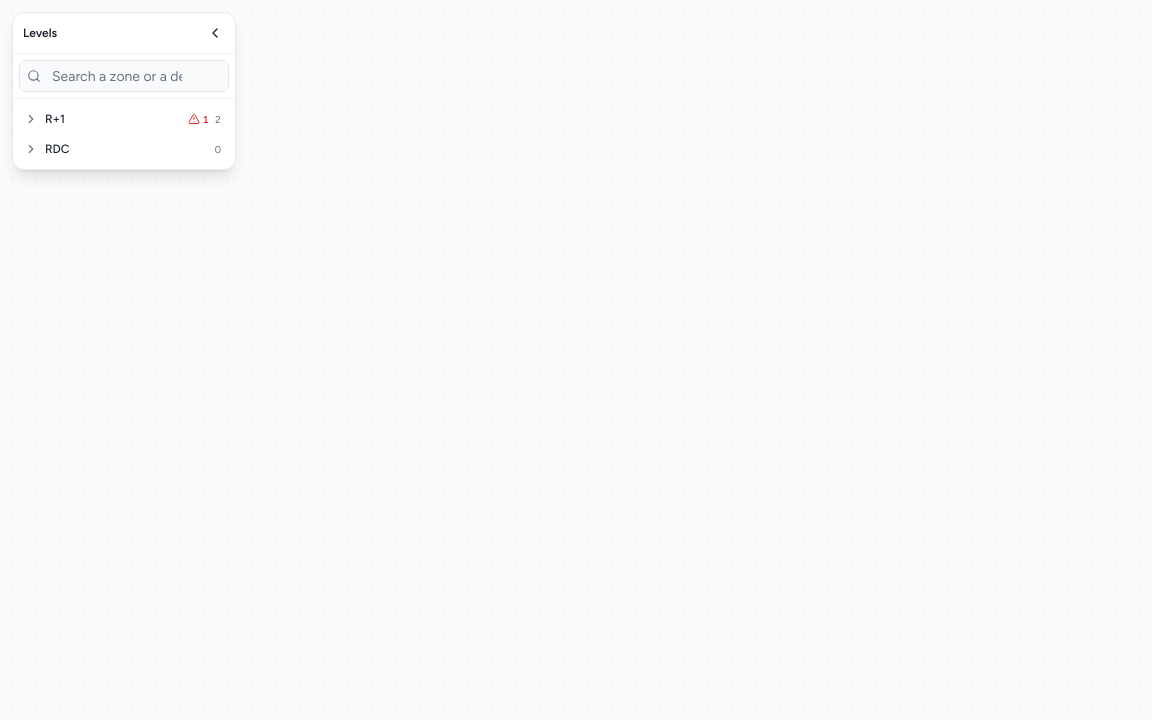
LevelPanel › links out for a device the model cannot place
In the search field labelled "Search a zone or a device…": (124,76) [19, 60, 229, 92], type "compteur"
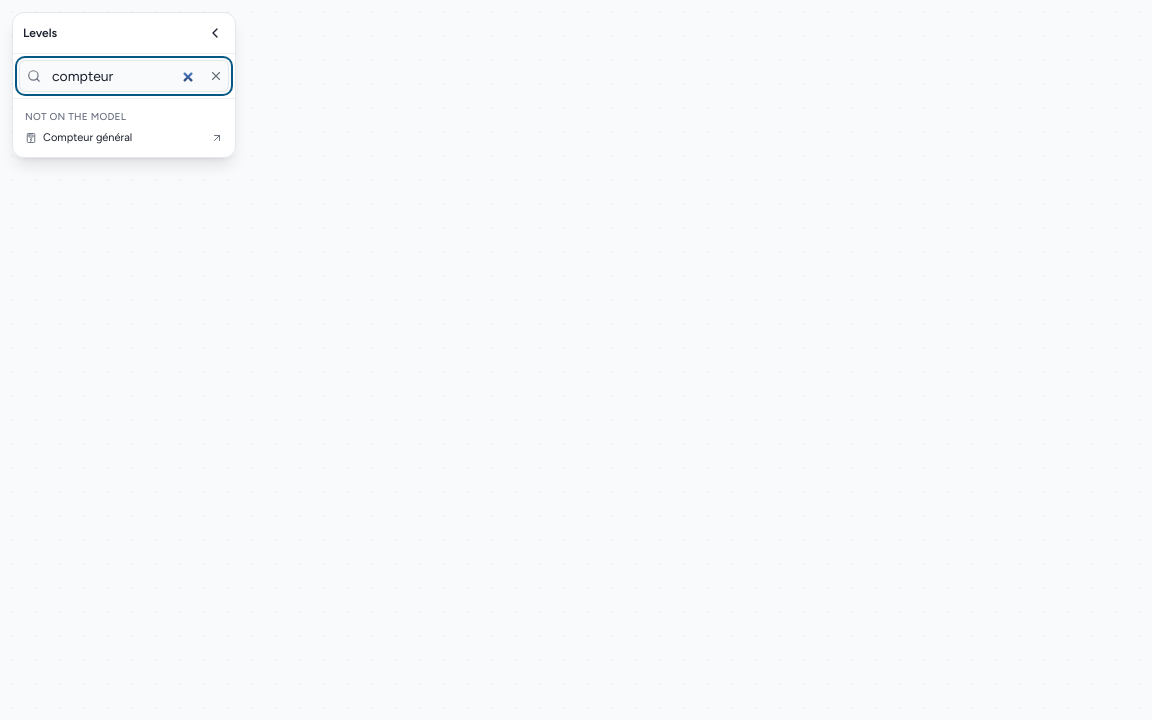
Expected: the text "Not on the model" is shown, [25, 110, 126, 123]
